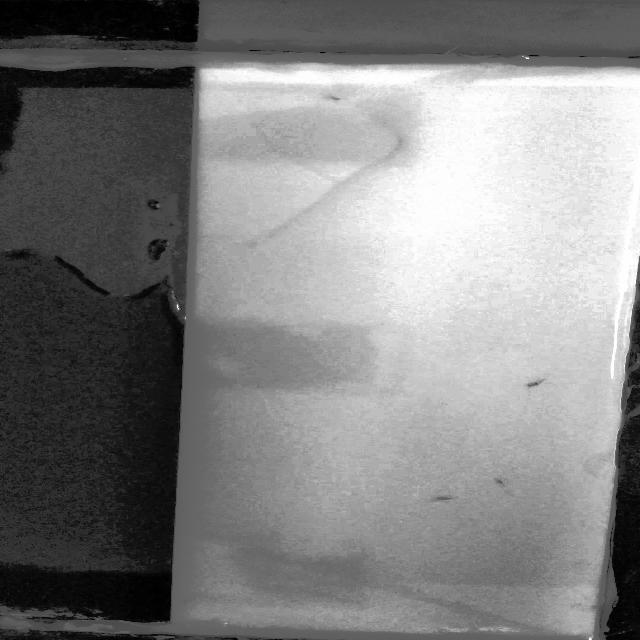shrimp: (314, 89, 360, 108), (487, 474, 513, 492), (520, 376, 546, 391), (434, 492, 457, 508)
